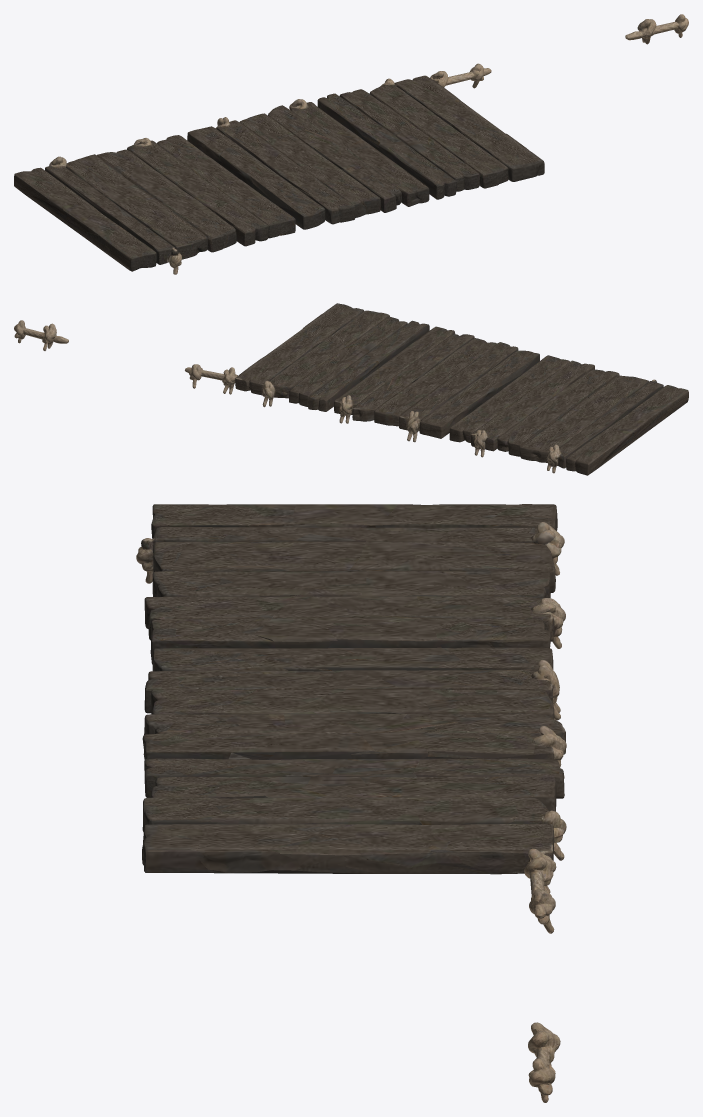
Rendered from ponte_corda.glb.
3 views of the same model, one above another, from view 1: azimuth 30°, elevation 25°; view 2: azimuth 150°, elevation 25°; view 3: azimuth 270°, elevation 25° (orthographic). The views are drawn at different scales.
Visible parts, largest first — view 1: Mesh_0; view 2: Mesh_0; view 3: Mesh_0.
Part boxes in pixels (box(x1,y1,x2,y2)): Mesh_0: box(14, 14, 688, 274); Mesh_0: box(14, 303, 688, 475); Mesh_0: box(136, 504, 566, 1102).
Bounding box in the file's own units: 5 × 0.2493 × 1.61.
1 material, 1 textured.
